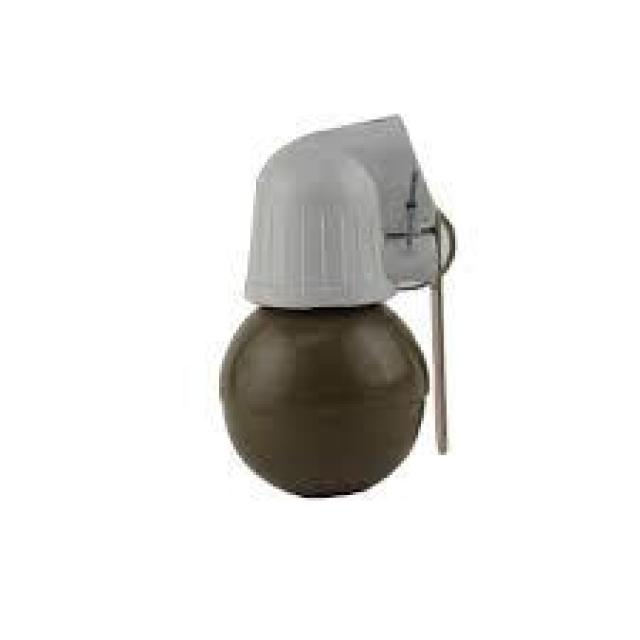grenade: (216, 102, 458, 500)
